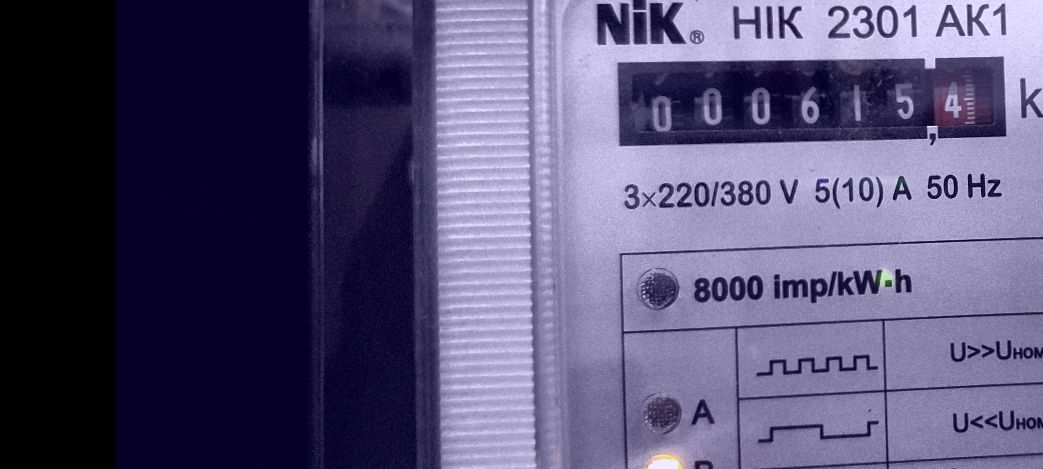0: (748, 84, 773, 127), (649, 92, 674, 133), (701, 85, 724, 125)
1: (851, 81, 864, 123)
4: (943, 78, 962, 119)
5: (893, 79, 916, 121)
6: (798, 84, 822, 124)
screen: (604, 44, 1019, 158)
